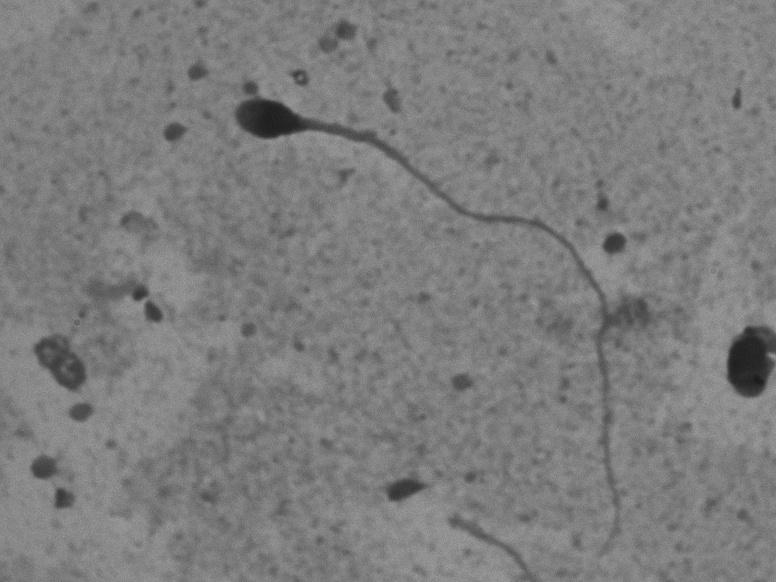Normal: (211, 64, 657, 525)
